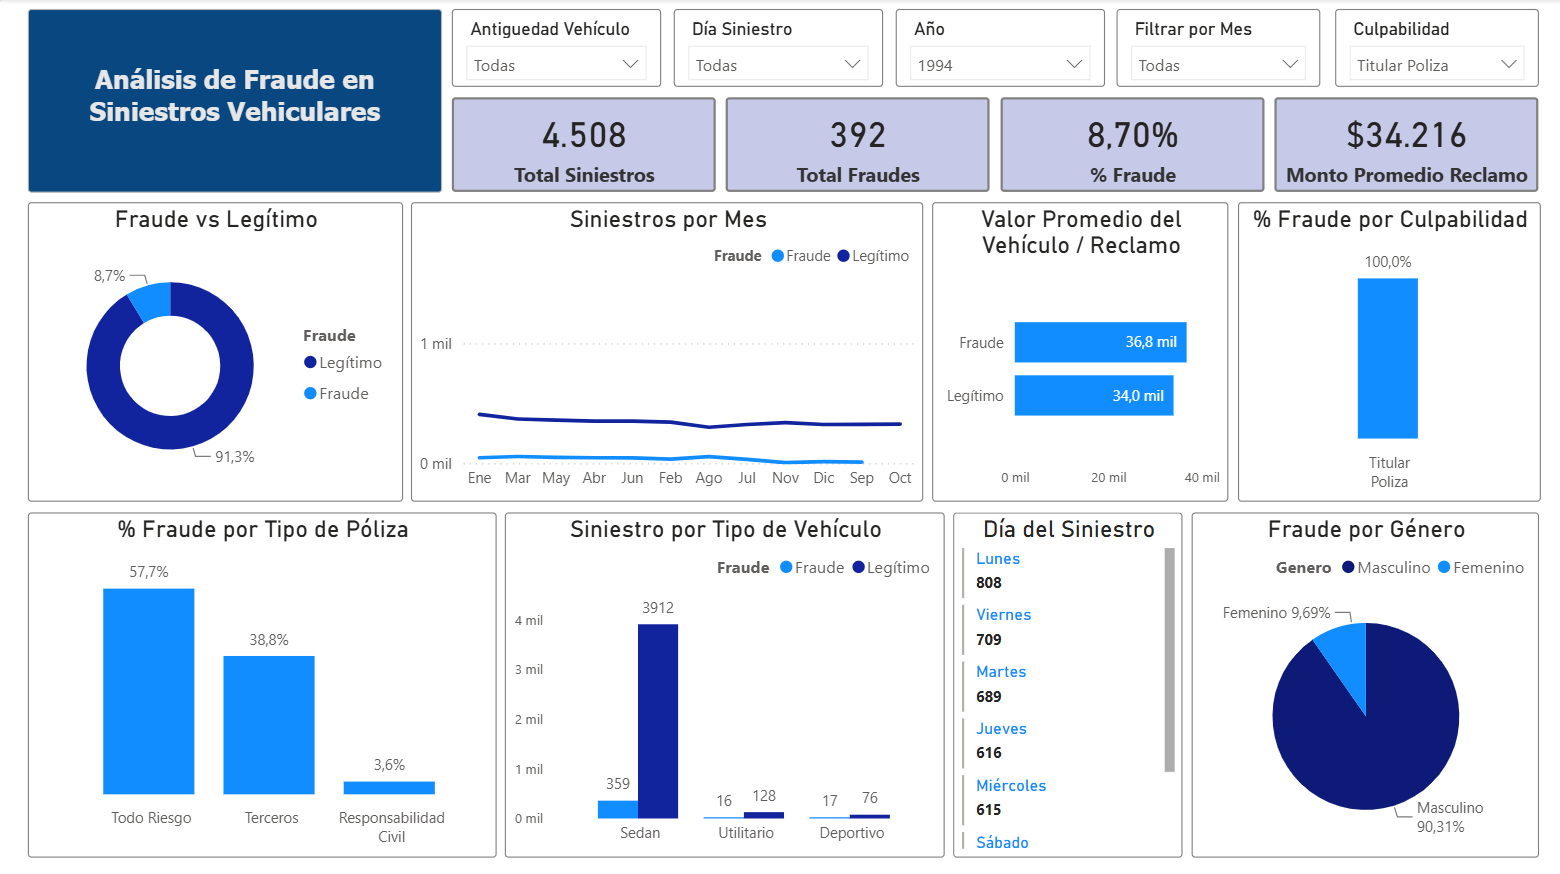

What the dashboard file says about the page in this screenshot:
{"tool":"powerbi","page":{"name":"Dashboard","canvas":[1280,720],"ordinal":0},"visuals":[{"type":"card","fields":{"Values":["CountNonNull(datos_limpios_para_powerbi.FraudeEncontrado)"]},"box":[369,80,215,77],"z":0},{"type":"card","fields":{"Values":["Sum(datos_limpios_para_powerbi.FraudeEncontrado)"]},"box":[592,80,215,77],"z":1000},{"type":"card","fields":{"Values":["Avg(datos_limpios_para_powerbi.FraudeEncontrado)"]},"box":[815,80,215,77],"z":2000},{"type":"card","fields":{"Values":["Avg(datos_limpios_para_powerbi.ValorVehiculo_ValorReclamo)"]},"box":[1038,80,215,77],"z":3000},{"type":"donutChart","title":"Fraude vs Legítimo","fields":{"Category":["datos_limpios_para_powerbi.Fraude"],"Y":["CountNonNull(datos_limpios_para_powerbi.FraudeEncontrado)"]},"box":[24,165,305,244],"z":4000},{"type":"clusteredColumnChart","title":"Siniestro por Tipo de Vehículo","fields":{"Category":["datos_limpios_para_powerbi.TipoVehiculo"],"Y":["CountNonNull(datos_limpios_para_powerbi.FraudeEncontrado)"],"Series":["datos_limpios_para_powerbi.Fraude"]},"box":[412,418,358,281],"z":5000},{"type":"lineChart","title":"Siniestros por Mes","fields":{"Category":["datos_limpios_para_powerbi.Mes"],"Y":["CountNonNull(datos_limpios_para_powerbi.FraudeEncontrado)"],"Series":["datos_limpios_para_powerbi.Fraude"]},"box":[336,165,417,244],"z":6000},{"type":"clusteredBarChart","title":"Valor Promedio del Vehículo / Reclamo","fields":{"Category":["datos_limpios_para_powerbi.Fraude"],"Y":["Avg(datos_limpios_para_powerbi.ValorVehiculo_ValorReclamo)"]},"box":[760,165,241,244],"z":7000},{"type":"columnChart","title":"% Fraude por Tipo de Póliza","fields":{"Category":["datos_limpios_para_powerbi.TipoPoliza"],"Y":["Divide(Sum(datos_limpios_para_powerbi.FraudeEncontrado), ScopedEval(Sum(datos_limpios_para_powerbi.FraudeEncontrado), []"]},"box":[24,418,381,281],"z":8000},{"type":"columnChart","title":"% Fraude por Culpabilidad","fields":{"Category":["datos_limpios_para_powerbi.Culpabilidad"],"Y":["Divide(Sum(datos_limpios_para_powerbi.FraudeEncontrado), ScopedEval(Sum(datos_limpios_para_powerbi.FraudeEncontrado), []"]},"box":[1008,165,246,244],"z":9000},{"type":"slicer","fields":{"Values":["datos_limpios_para_powerbi.Mes"]},"box":[910,8,166,63],"z":10000},{"type":"slicer","fields":{"Values":["datos_limpios_para_powerbi.Culpabilidad"]},"box":[1087,8,166,63],"z":11000},{"type":"slicer","fields":{"Values":["datos_limpios_para_powerbi.Año"]},"box":[730,8,170,63],"z":12000},{"type":"pieChart","title":"Fraude por Género","fields":{"Category":["datos_limpios_para_powerbi.Genero"],"Y":["Divide(Sum(datos_limpios_para_powerbi.FraudeEncontrado), ScopedEval(Sum(datos_limpios_para_powerbi.FraudeEncontrado), []"]},"box":[971,418,283,281],"z":13000},{"type":"multiRowCard","title":"Día del Siniestro","fields":{"Values":["CountNonNull(datos_limpios_para_powerbi.FraudeEncontrado)","datos_limpios_para_powerbi.Dia_semana"]},"box":[777,418,187,281],"z":14000},{"type":"slicer","fields":{"Values":["datos_limpios_para_powerbi.Dia_semana"]},"box":[550,8,170,63],"z":15000},{"type":"slicer","fields":{"Values":["datos_limpios_para_powerbi.Antiguedad_Vehiculo"]},"box":[369,8,170,63],"z":16000},{"type":"textbox","box":[24,8,337,149],"z":17000}]}

Visuals, with their boxes in screenshot pixels (x1, y1, x2, y2), scaled from the page's 1280x720 canvas onto the 1560x874 screenshot:
card - CountNonNull(datos_limpios_para_powerbi.FraudeEncontrado): bbox=[450, 97, 712, 191]
card - Sum(datos_limpios_para_powerbi.FraudeEncontrado): bbox=[722, 97, 984, 191]
card - Avg(datos_limpios_para_powerbi.FraudeEncontrado): bbox=[993, 97, 1255, 191]
card - Avg(datos_limpios_para_powerbi.ValorVehiculo_ValorReclamo): bbox=[1265, 97, 1527, 191]
"Fraude vs Legítimo" donutChart: bbox=[29, 200, 401, 496]
"Siniestro por Tipo de Vehículo" clusteredColumnChart: bbox=[502, 507, 938, 849]
"Siniestros por Mes" lineChart: bbox=[410, 200, 918, 496]
"Valor Promedio del Vehículo / Reclamo" clusteredBarChart: bbox=[926, 200, 1220, 496]
"% Fraude por Tipo de Póliza" columnChart: bbox=[29, 507, 494, 849]
"% Fraude por Culpabilidad" columnChart: bbox=[1228, 200, 1528, 496]
slicer - datos_limpios_para_powerbi.Mes: bbox=[1109, 10, 1311, 86]
slicer - datos_limpios_para_powerbi.Culpabilidad: bbox=[1325, 10, 1527, 86]
slicer - datos_limpios_para_powerbi.Año: bbox=[890, 10, 1097, 86]
"Fraude por Género" pieChart: bbox=[1183, 507, 1528, 849]
"Día del Siniestro" multiRowCard: bbox=[947, 507, 1175, 849]
slicer - datos_limpios_para_powerbi.Dia_semana: bbox=[670, 10, 878, 86]
slicer - datos_limpios_para_powerbi.Antiguedad_Vehiculo: bbox=[450, 10, 657, 86]
textbox: bbox=[29, 10, 440, 191]
